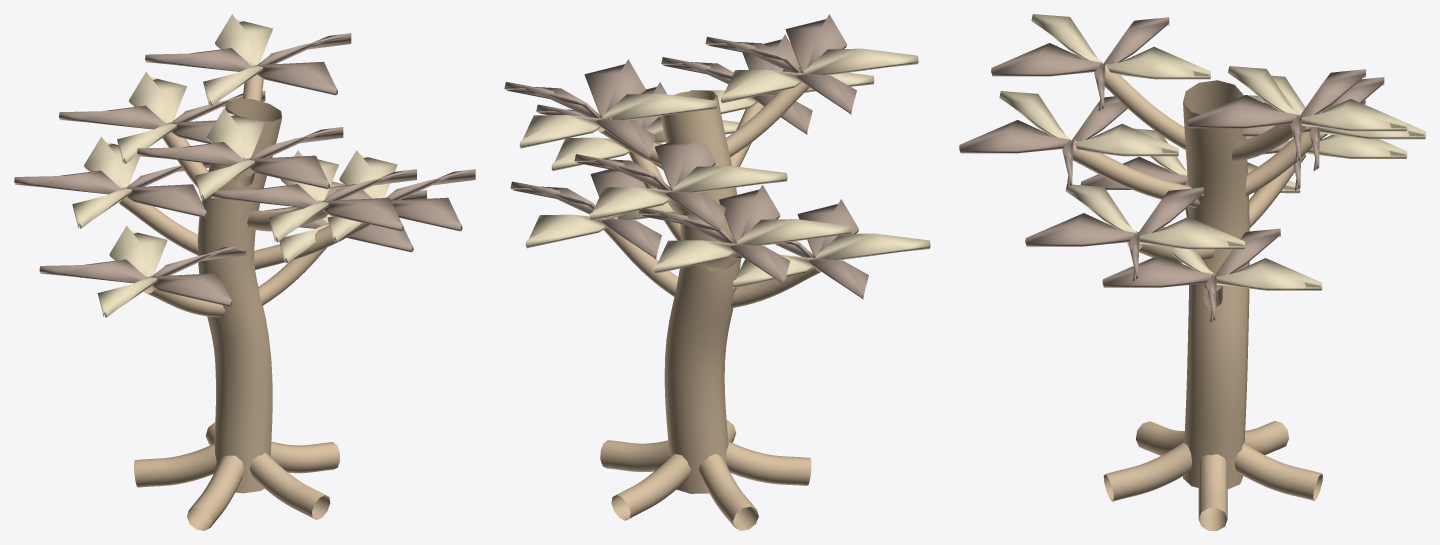
File: bio_canopy_tree_11_near.glb
The picture shows the model from 3 angles, left to right: view 1: azimuth 30°, elevation 25°; view 2: azimuth 150°, elevation 25°; view 3: azimuth 270°, elevation 25°; orthographic projection. The views are drawn at different scales.
Parts seen in each view (by area): view 1: Buttressed trunk, Broad canopy leaf.035, Broad canopy leaf.015, Broad canopy leaf.010, Broad canopy leaf.020, Broad canopy leaf.005, Broad canopy leaf.030, Broad canopy leaf.021, Broad canopy leaf.016, Broad canopy leaf.036, Broad canopy leaf.025, Broad canopy leaf.031 (+5 smaller); view 2: Buttressed trunk, Broad canopy leaf.015, Broad canopy leaf.035, Broad canopy leaf.005, Broad canopy leaf.030, Broad canopy leaf.006, Broad canopy leaf.031, Broad canopy leaf.016, Broad canopy leaf.036, Broad canopy leaf.021, Broad canopy leaf, Broad canopy leaf.020 (+5 smaller); view 3: Buttressed trunk, Broad canopy leaf.035, Broad canopy leaf.015, Broad canopy leaf.025, Broad canopy leaf, Broad canopy leaf.010, Broad canopy leaf.016, Broad canopy leaf.011, Broad canopy leaf.026, Broad canopy leaf.036, Broad canopy leaf.001, Broad canopy leaf.006 (+4 smaller).
Part boxes in pixels (x1,y1,x2,y2): Buttressed trunk: [119, 75, 370, 530]; Broad canopy leaf.035: [137, 127, 343, 189]; Broad canopy leaf.015: [145, 33, 351, 95]; Broad canopy leaf.010: [211, 169, 416, 231]; Broad canopy leaf.020: [39, 246, 245, 306]; Broad canopy leaf.005: [14, 162, 210, 217]; Broad canopy leaf.030: [59, 90, 265, 143]; Broad canopy leaf.021: [97, 225, 167, 317]; Broad canopy leaf.016: [203, 14, 272, 106]; Broad canopy leaf.036: [195, 108, 264, 199]; Broad canopy leaf.025: [325, 169, 475, 231]; Broad canopy leaf.031: [117, 72, 186, 163]; Buttressed trunk: [598, 71, 820, 530]; Broad canopy leaf.015: [504, 59, 655, 159]; Broad canopy leaf.035: [705, 14, 856, 114]; Broad canopy leaf.005: [638, 185, 789, 284]; Broad canopy leaf.030: [574, 141, 725, 232]; Broad canopy leaf.006: [654, 219, 851, 273]; Broad canopy leaf.031: [589, 166, 787, 220]; Broad canopy leaf.016: [519, 93, 717, 148]; Broad canopy leaf.036: [720, 48, 918, 103]; Broad canopy leaf.021: [732, 233, 930, 288]; Broad canopy leaf: [510, 169, 661, 259]; Broad canopy leaf.020: [775, 199, 868, 299]; Buttressed trunk: [1073, 64, 1322, 530]; Broad canopy leaf.035: [991, 17, 1169, 110]; Broad canopy leaf.015: [1187, 69, 1365, 163]; Broad canopy leaf.025: [1025, 187, 1203, 281]; Broad canopy leaf: [1102, 228, 1280, 322]; Broad canopy leaf.010: [959, 96, 1127, 187]; Broad canopy leaf.016: [1228, 66, 1407, 131]; Broad canopy leaf.011: [999, 91, 1178, 156]; Broad canopy leaf.026: [1065, 184, 1244, 249]; Broad canopy leaf.036: [1031, 14, 1210, 79]; Broad canopy leaf.001: [1157, 226, 1322, 290]; Broad canopy leaf.006: [1243, 95, 1407, 158].
Bounding box in the file's own units: 2.97 × 2.99 × 3.05.
